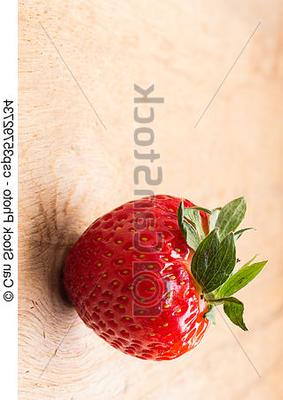strawberry: (0, 0, 283, 400)
